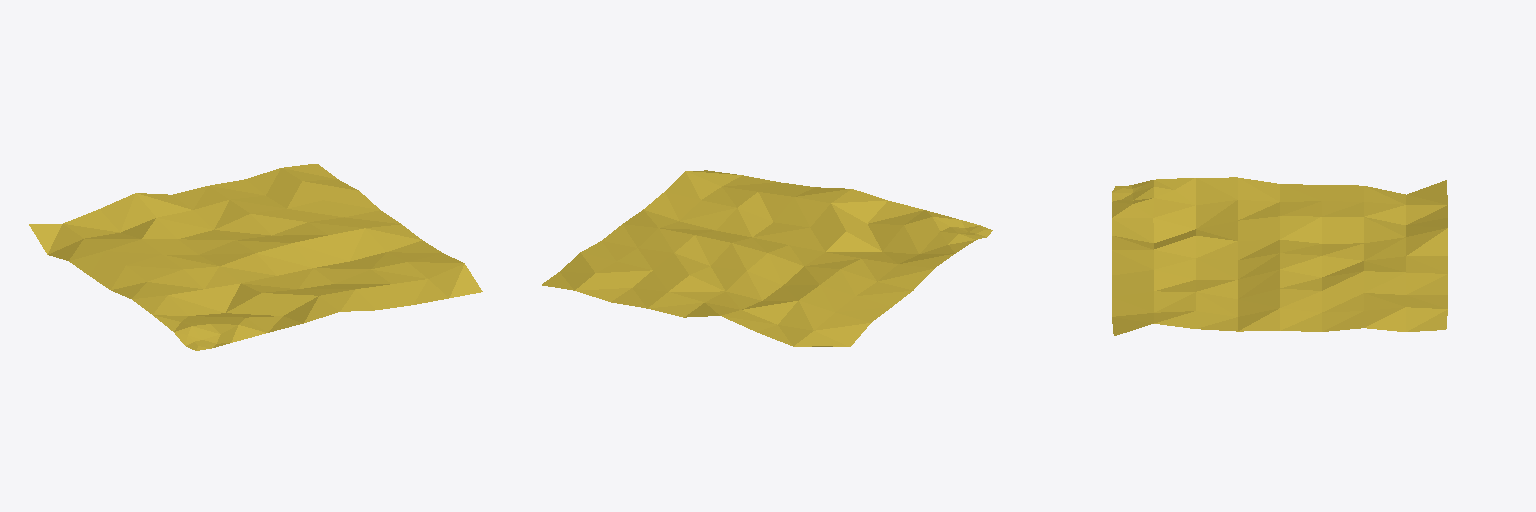
The model's file is desert.obj.
3 views of the same model, side by side, from view 1: azimuth 30°, elevation 25°; view 2: azimuth 150°, elevation 25°; view 3: azimuth 270°, elevation 25° (orthographic).
Visible parts, largest first — view 1: Plane; view 2: Plane; view 3: Plane.
Part boxes in pixels (x1,y1,x2,y2): Plane: (29, 164, 482, 350); Plane: (542, 170, 992, 346); Plane: (1112, 177, 1447, 335).
Size of the model in its own units: 23.75 by 1.62 by 23.76.